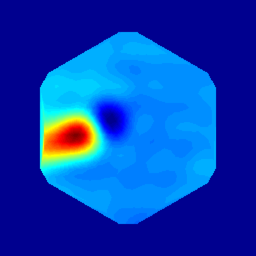ship: (90, 109, 126, 137)
wave: (60, 118, 104, 146)
